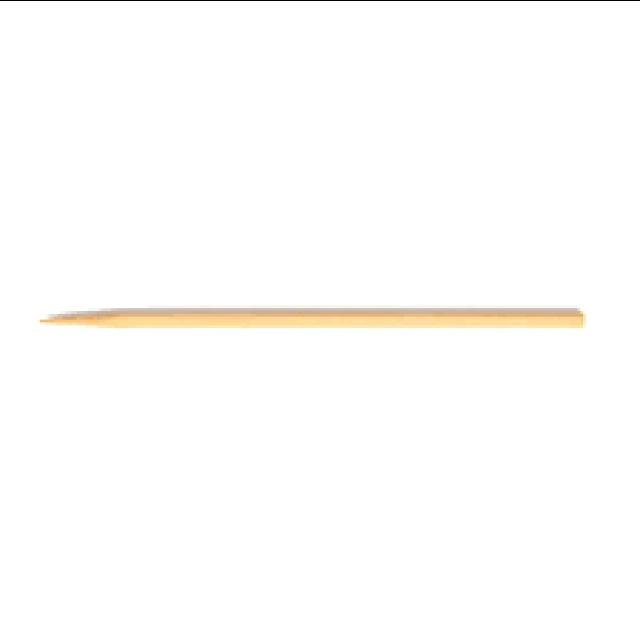stick: (41, 309, 585, 328)
